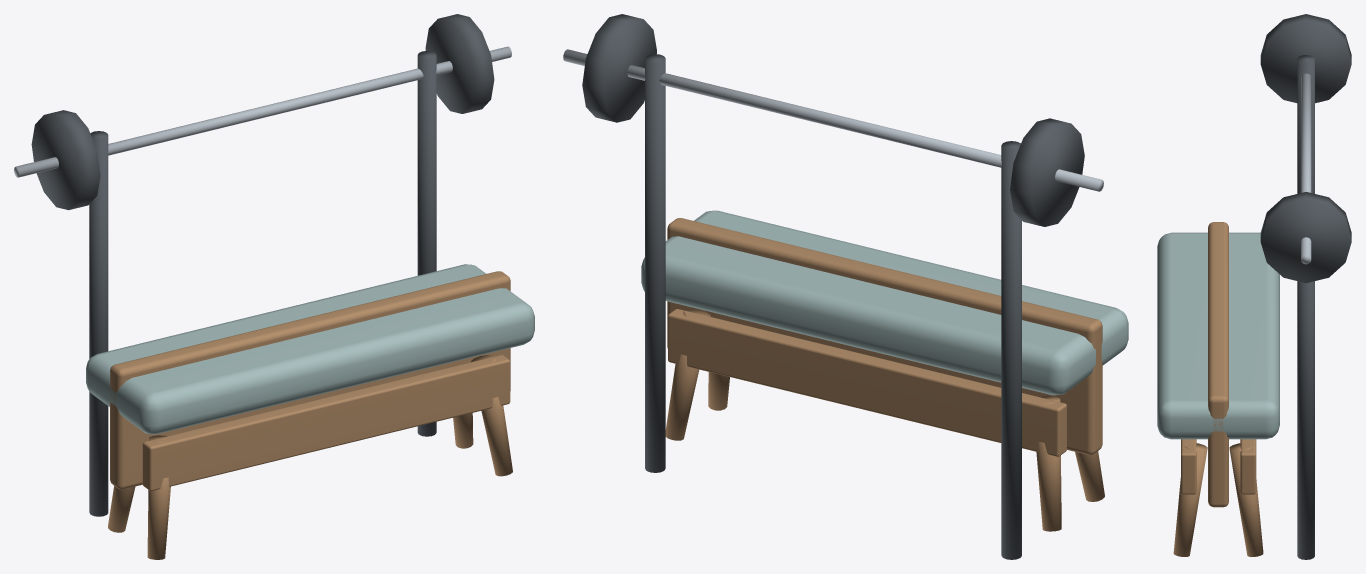
The model's file is atelier-weight-bench.glb.
The picture shows the model from 3 angles, left to right: view 1: azimuth 30°, elevation 25°; view 2: azimuth 150°, elevation 25°; view 3: azimuth 270°, elevation 25°; orthographic projection. The views are drawn at different scales.
Parts seen in each view (by area): view 1: legs.236, fabric.106, metal.203, steel.066; view 2: legs.236, fabric.106, metal.203, steel.066; view 3: fabric.106, metal.203, legs.236, steel.066.
Part boxes in pixels (x1,y1,x2,y2): legs.236: (108,271,512,559); fabric.106: (86,264,534,434); metal.203: (31,14,494,516); steel.066: (14,46,511,177); legs.236: (665,218,1104,531); fabric.106: (641,210,1128,395); metal.203: (582,14,1084,559); steel.066: (563,49,1103,191); fabric.106: (1157,232,1279,439); metal.203: (1260,14,1351,559); legs.236: (1173,222,1263,556); steel.066: (1301,73,1311,264).
Size of the model in its own units: 1.5 by 1.18 by 0.555.
